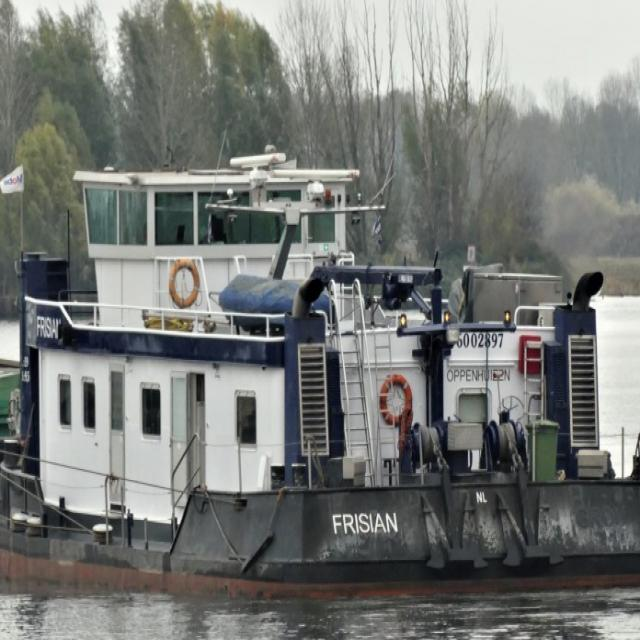tugboat: (1, 123, 640, 614)
